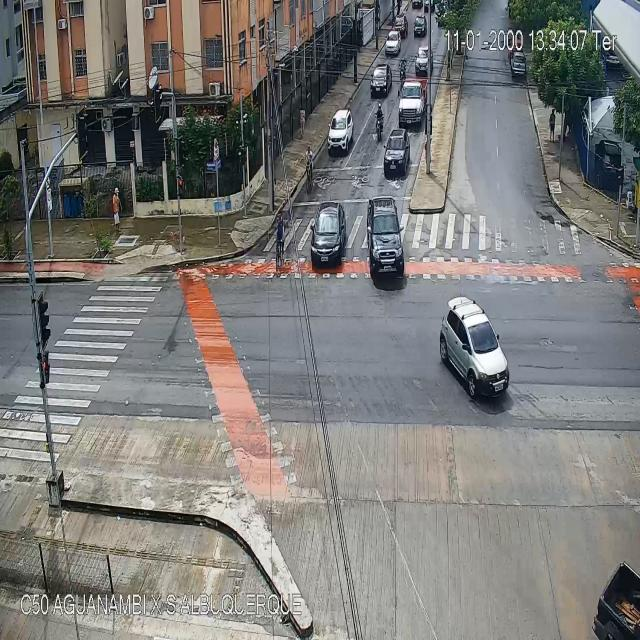Car: (440, 296, 511, 398), (579, 528, 640, 640), (367, 196, 407, 279), (310, 204, 347, 265), (384, 130, 409, 175), (328, 108, 353, 150), (371, 64, 394, 98), (416, 46, 433, 74), (385, 27, 401, 55), (393, 14, 408, 41), (511, 54, 526, 76), (414, 15, 427, 35)
Motorcycle: (375, 104, 385, 142), (400, 56, 407, 88)
Truck: (399, 78, 426, 130)
